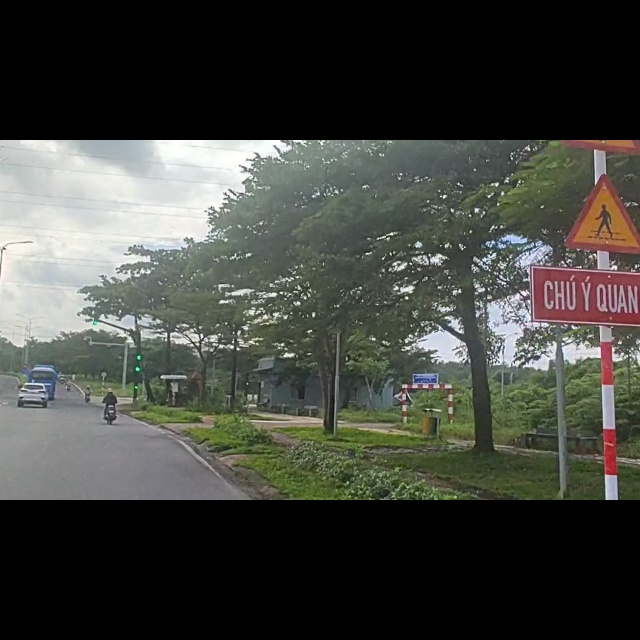bien_nguy_hiem: (565, 53, 640, 206)
